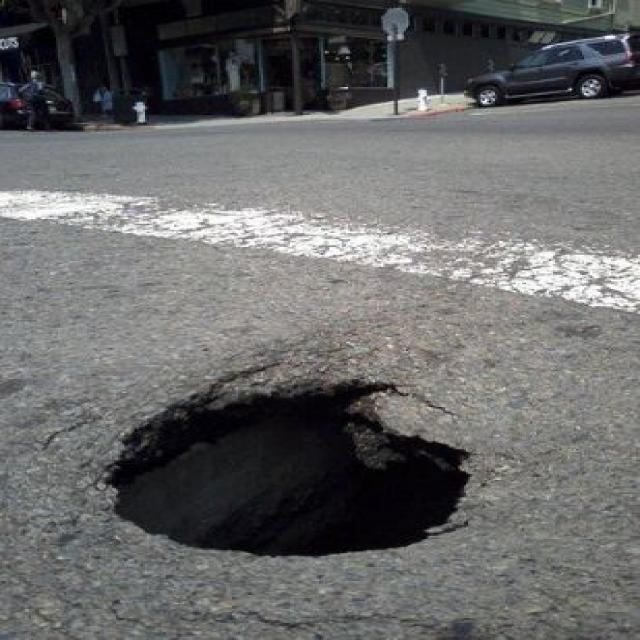pothole: (86, 362, 476, 562)
